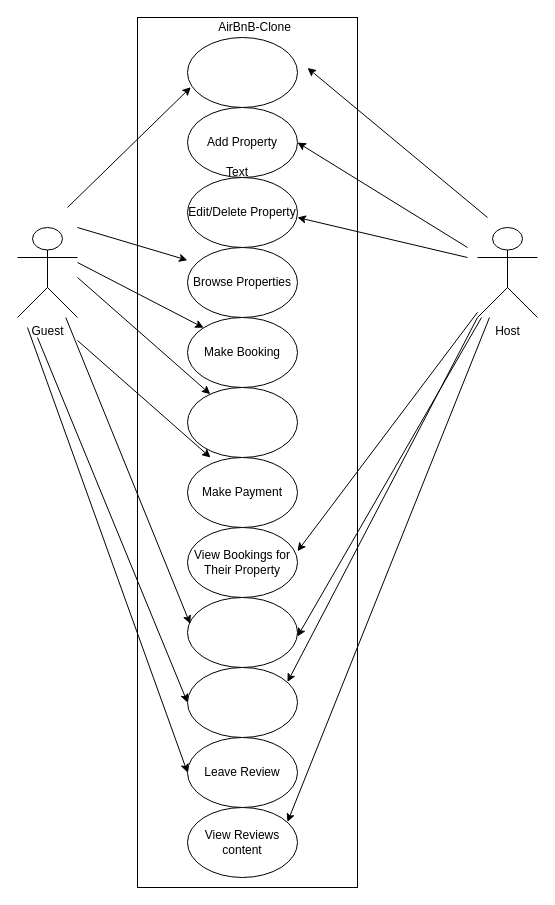
The diagram is 555 pixels wide and 905 high, and some of its shapes have lost their labels. The centre of each missing label's shape, as x and y in pixels:
"Cancel Booking" goes at point (242, 422).
"Register / Sign in" goes at point (242, 72).
"Respond to Messages" goes at point (242, 702).
"Send/Receive Messages" goes at point (242, 632).
